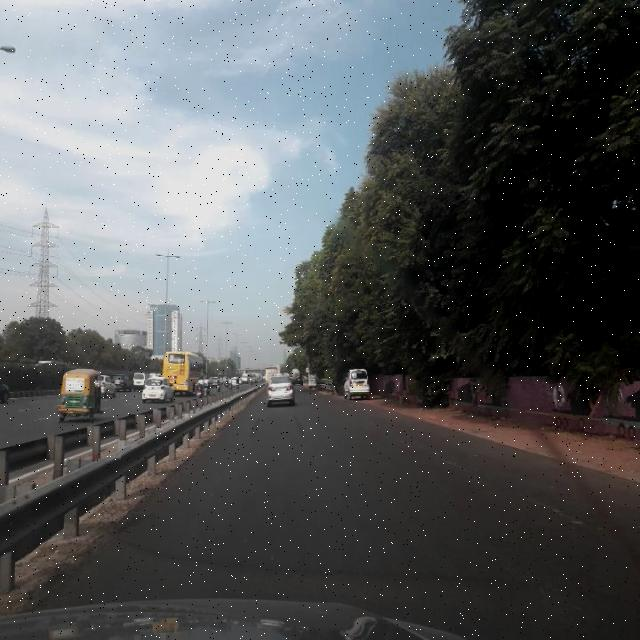D44: (519, 487, 589, 528)
